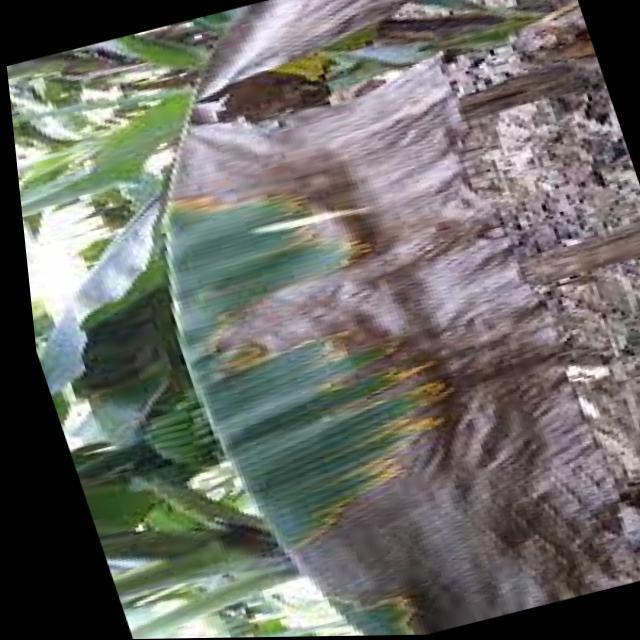Early_rust: (151, 0, 510, 634)
